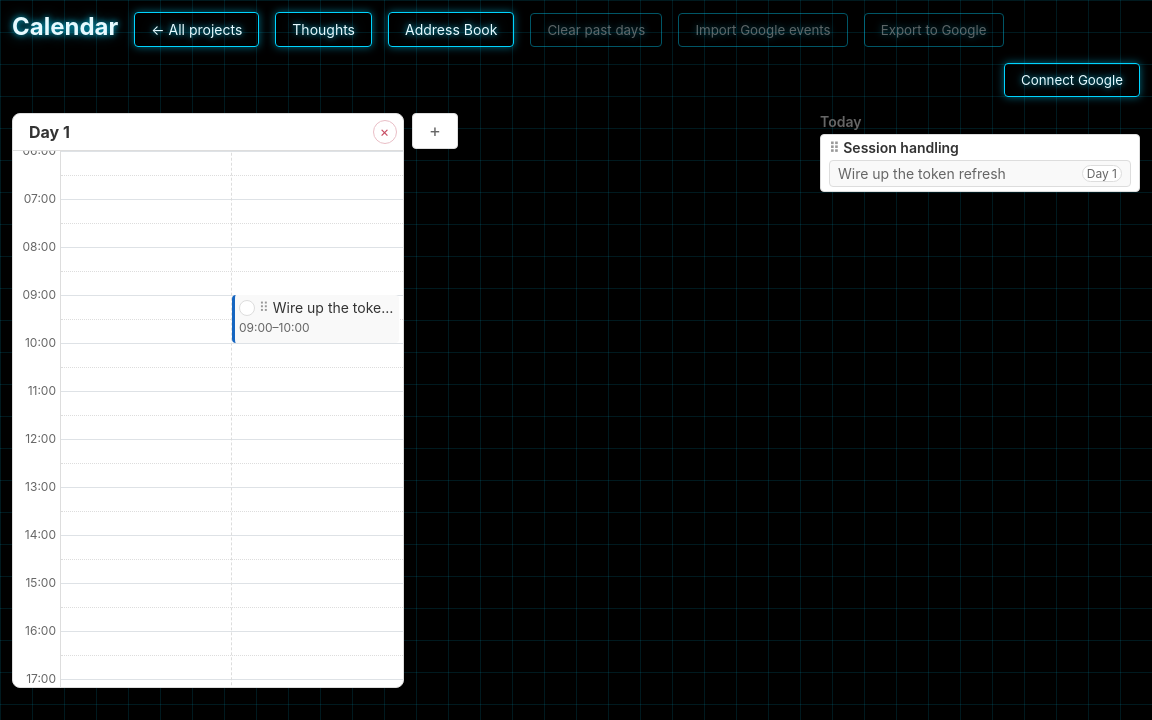
Test: CalendarPage › a refill that fails says so and leaves the listed sequences alone
(page scrolled)
Expected: the element named "Days" is shown, [12,113,458,688]
Click the button named "Complete “Wire up the token refresh”": (247,308) [239,300,255,316]
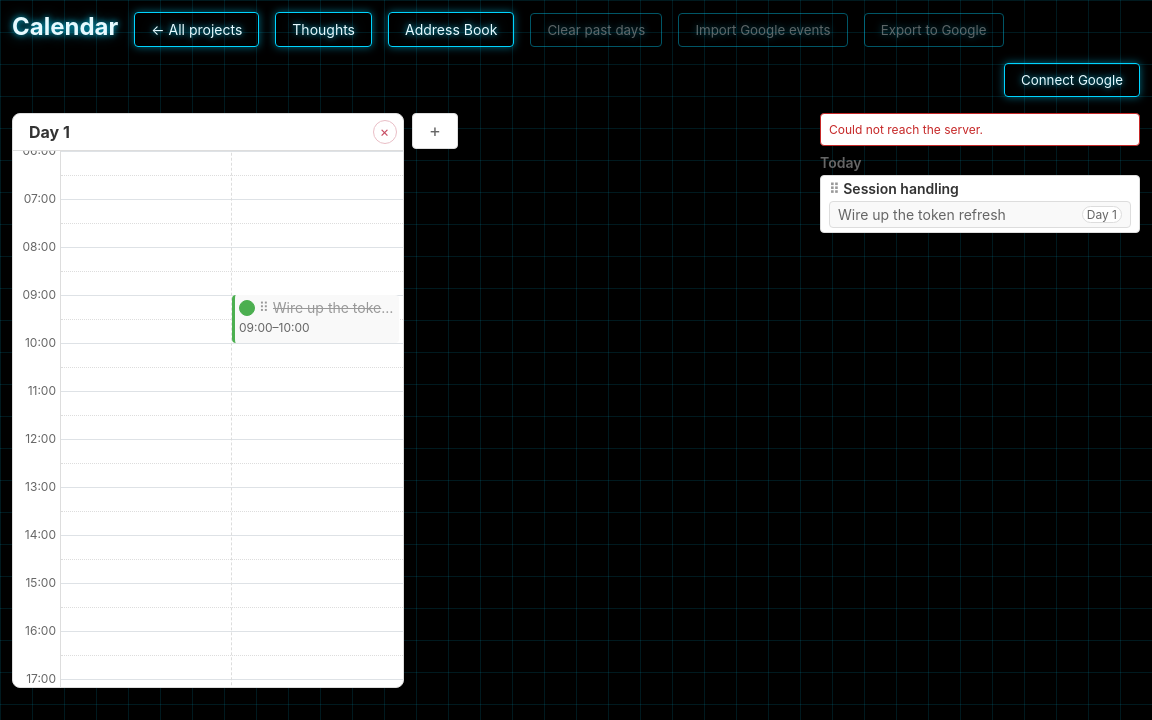
Expected: the text "Wire up the token refresh" is shown, [838,206,1006,223]
Expected: the text "Could not reach the server." is shown, [820,113,1140,146]
